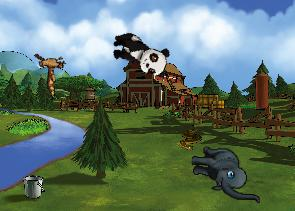eagle: (22, 41, 79, 100)
elephant: (190, 146, 260, 203)
panda: (106, 28, 173, 80)
